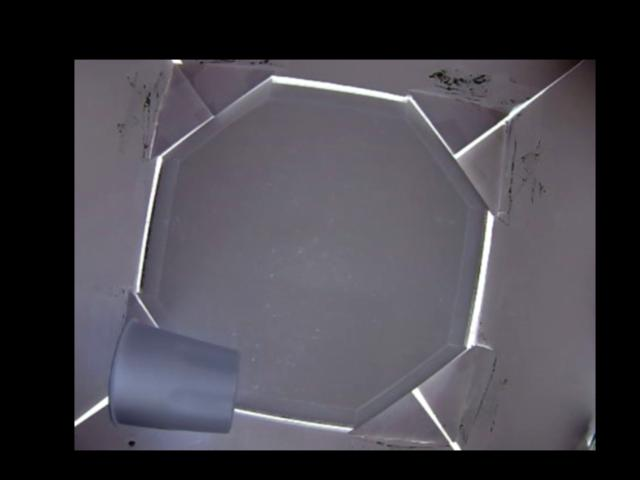Cup: (106, 319, 242, 433)
